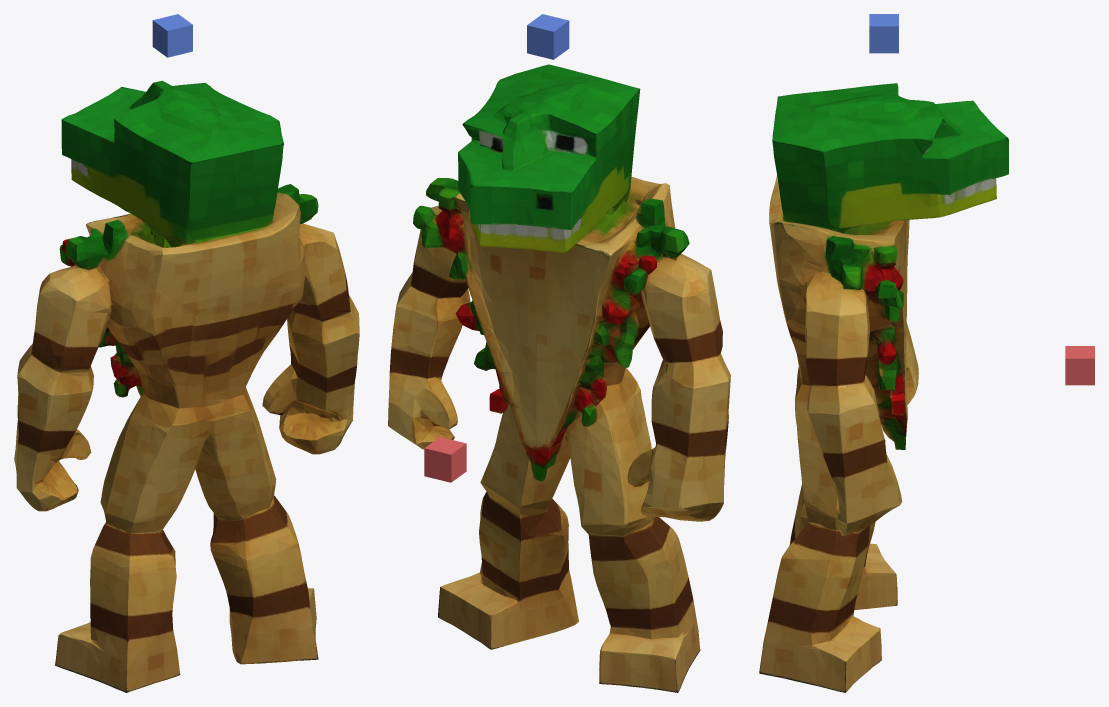
The model's file is CoccodrilloTacorito.glb.
3 renders of one model, left to right at view 1: azimuth 30°, elevation 25°; view 2: azimuth 150°, elevation 25°; view 3: azimuth 270°, elevation 25°, orthographic. The views are drawn at different scales.
Visible parts, largest first — view 1: CoccodrilloTacorito_Body, CoccodrilloTacorito_Leg2, CoccodrilloTacorito_Leg1, CoccodrilloTacorito_Top; view 2: CoccodrilloTacorito_Body, CoccodrilloTacorito_Leg1, CoccodrilloTacorito_Leg2, CoccodrilloTacorito_Front, CoccodrilloTacorito_Top; view 3: CoccodrilloTacorito_Body, CoccodrilloTacorito_Leg1, CoccodrilloTacorito_Leg2, CoccodrilloTacorito_Front, CoccodrilloTacorito_Top.
Boxes of the visible parts, left/top/right/bottom form: CoccodrilloTacorito_Body: left=14, top=80, right=359, bottom=598; CoccodrilloTacorito_Leg2: left=55, top=509, right=180, bottom=692; CoccodrilloTacorito_Leg1: left=204, top=481, right=318, bottom=664; CoccodrilloTacorito_Top: left=152, top=14, right=192, bottom=57; CoccodrilloTacorito_Body: left=388, top=64, right=730, bottom=587; CoccodrilloTacorito_Leg1: left=438, top=475, right=578, bottom=649; CoccodrilloTacorito_Leg2: left=579, top=499, right=700, bottom=692; CoccodrilloTacorito_Front: left=424, top=437, right=466, bottom=482; CoccodrilloTacorito_Top: left=527, top=14, right=569, bottom=59; CoccodrilloTacorito_Body: left=769, top=83, right=1008, bottom=573; CoccodrilloTacorito_Leg1: left=759, top=507, right=881, bottom=692; CoccodrilloTacorito_Leg2: left=789, top=484, right=897, bottom=610; CoccodrilloTacorito_Front: left=1065, top=346, right=1094, bottom=385; CoccodrilloTacorito_Top: left=869, top=14, right=898, bottom=53.
Bounding box in the file's own units: 3.21 × 5.72 × 2.84.
Materials: 1 (1 with a texture image).
